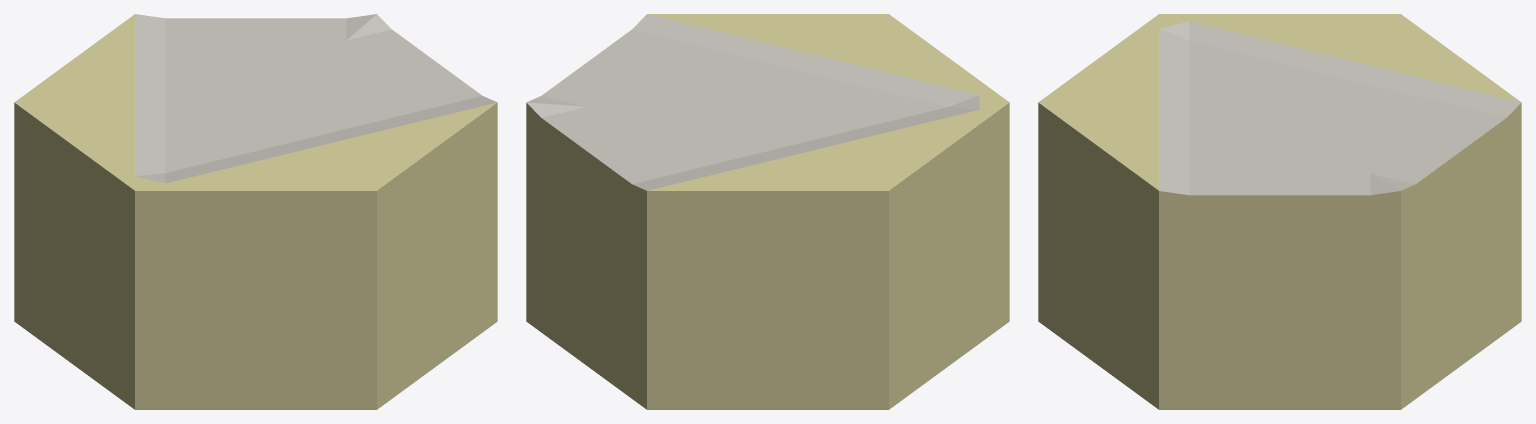
File: sand_road3.fbx
3 renders of one model, left to right at view 1: azimuth 30°, elevation 25°; view 2: azimuth 150°, elevation 25°; view 3: azimuth 270°, elevation 25°, orthographic.
Parts seen in each view (by area): view 1: Cylinder; view 2: Cylinder; view 3: Cylinder.
Boxes of the visible parts, bbox=[...] form: Cylinder: bbox=[14, 14, 497, 409]; Cylinder: bbox=[526, 14, 1009, 409]; Cylinder: bbox=[1038, 14, 1521, 409].
Size of the model in its own units: 1.73 by 1 by 2.
